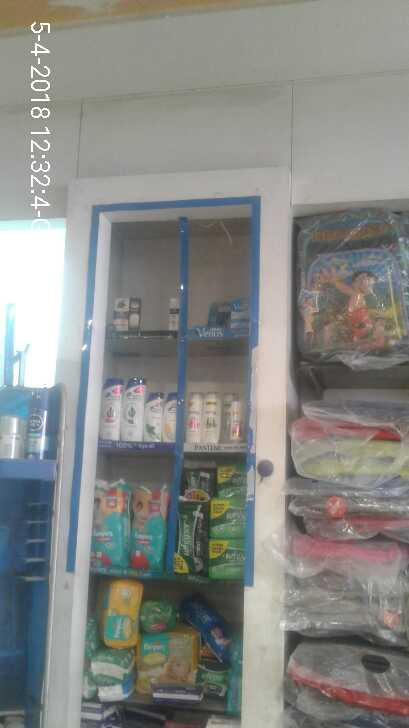venus: (231, 300, 256, 329), (206, 306, 231, 329)
